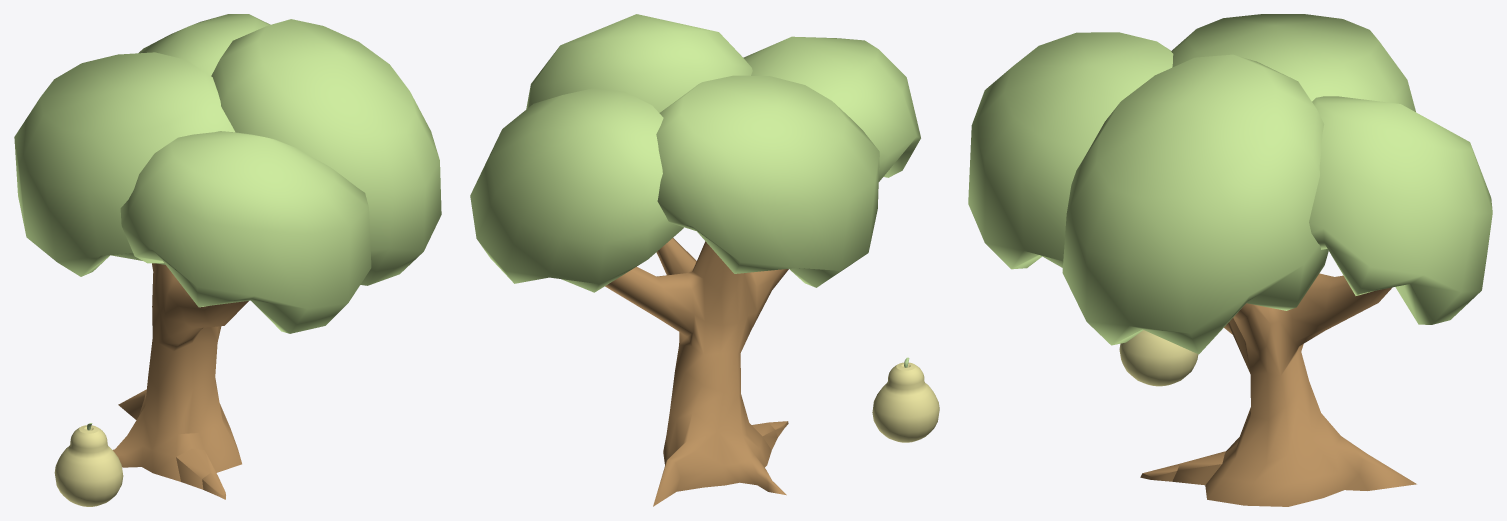
Rendered from pear tree .fbx.
3 views of the same model, side by side, from view 1: azimuth 30°, elevation 25°; view 2: azimuth 150°, elevation 25°; view 3: azimuth 270°, elevation 25° (orthographic). The views are drawn at different scales.
Parts seen in each view (by area): view 1: polySurface11, polySurface12, polySurface4, polySurface5, pCylinder2, polySurface10; view 2: polySurface4, polySurface10, polySurface5, polySurface12, polySurface11, pCylinder2; view 3: polySurface12, polySurface10, polySurface11, polySurface5, polySurface4, pCylinder2.
Boxes of the visible parts, bbox=[...] form: polySurface11: bbox=[120, 131, 371, 333]; polySurface12: bbox=[211, 19, 441, 285]; polySurface4: bbox=[14, 52, 234, 276]; polySurface5: bbox=[113, 263, 248, 499]; pCylinder2: bbox=[54, 423, 123, 506]; polySurface10: bbox=[138, 14, 270, 75]; polySurface4: bbox=[656, 75, 879, 287]; polySurface10: bbox=[470, 88, 683, 292]; polySurface5: bbox=[605, 238, 788, 506]; polySurface12: bbox=[526, 14, 752, 112]; polySurface11: bbox=[743, 36, 920, 181]; pCylinder2: bbox=[872, 357, 939, 442]; polySurface12: bbox=[1062, 54, 1328, 354]; polySurface10: bbox=[1309, 96, 1492, 324]; polySurface11: bbox=[968, 32, 1173, 269]; polySurface5: bbox=[1140, 273, 1416, 506]; polySurface4: bbox=[1171, 14, 1415, 111]; pCylinder2: bbox=[1119, 330, 1198, 386].
Bounding box in the file's own units: 19.99 × 20.66 × 20.94.
